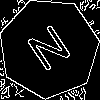N: (24, 23, 80, 82)
